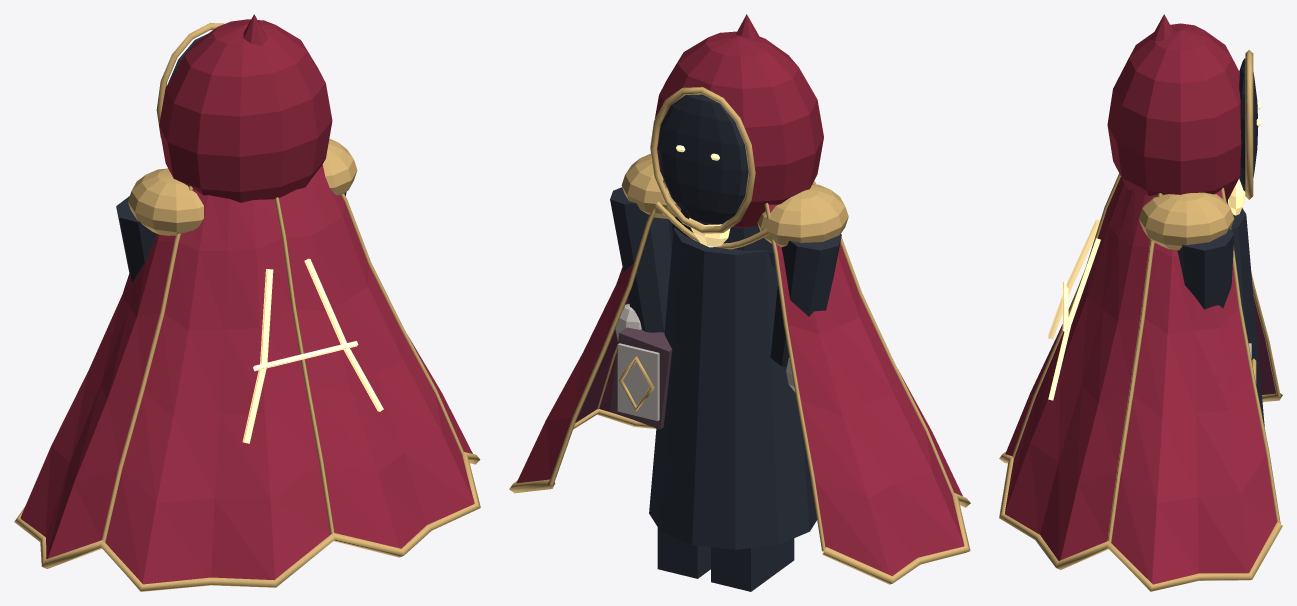
The model's file is player.glb.
The picture shows the model from 3 angles, left to right: view 1: azimuth 30°, elevation 25°; view 2: azimuth 150°, elevation 25°; view 3: azimuth 270°, elevation 25°; orthographic projection. The views are drawn at different scales.
Visible parts, largest first — view 1: Cloak, Hood, CloakHem, Shoulder_-1, CloakSeam_8, Sleeve_-1, CloakSeam_4, BackRune-1, Shoulder_1, BackRune1, CloakSeam_12, HoodTrim (+1 smaller); view 2: Dress, Cloak, Hood, FaceShadow, Sleeve_1, Sleeve_-1, Shoulder_-1, Boot_-1, HoodTrim, CloakHem, BookPages, Grimoire (+8 smaller); view 3: Cloak, Hood, Shoulder_1, CloakHem, Sleeve_1, Dress, CloakSeam_12, HoodTrim, CloakSeam_16, FaceShadow, BackRune1, CloakLining (+4 smaller).
Part boxes in pixels (x1=…): Cloak: x1=20, y1=165, x2=474, y2=584; Hood: x1=159, y1=19, x2=332, y2=202; CloakHem: x1=14, y1=452, x2=480, y2=591; Shoulder_-1: x1=128, y1=168, x2=203, y2=235; CloakSeam_8: x1=275, y1=197, x2=334, y2=534; Sleeve_-1: x1=116, y1=196, x2=157, y2=282; CloakSeam_4: x1=102, y1=186, x2=192, y2=541; BackRune-1: x1=242, y1=269, x2=273, y2=443; Shoulder_1: x1=322, y1=138, x2=357, y2=195; BackRune1: x1=304, y1=258, x2=383, y2=411; CloakSeam_12: x1=341, y1=193, x2=463, y2=454; HoodTrim: x1=156, y1=23, x2=224, y2=137; Dress: x1=649, y1=227, x2=816, y2=549; Cloak: x1=516, y1=180, x2=964, y2=575; Hood: x1=655, y1=31, x2=823, y2=227; FaceShadow: x1=658, y1=94, x2=748, y2=224; Sleeve_1: x1=610, y1=187, x2=672, y2=332; Sleeve_-1: x1=770, y1=233, x2=841, y2=367; Shoulder_-1: x1=757, y1=184, x2=848, y2=246; Boot_-1: x1=711, y1=538, x2=794, y2=591; HoodTrim: x1=650, y1=87, x2=755, y2=233; CloakHem: x1=509, y1=409, x2=970, y2=584; BookPages: x1=617, y1=343, x2=659, y2=420; Grimoire: x1=610, y1=327, x2=672, y2=429; Cloak: x1=1005, y1=177, x2=1276, y2=584; Hood: x1=1107, y1=23, x2=1241, y2=201; Shoulder_1: x1=1139, y1=192, x2=1234, y2=250; CloakHem: x1=999, y1=393, x2=1282, y2=591; Sleeve_1: x1=1177, y1=228, x2=1234, y2=309; Dress: x1=1231, y1=208, x2=1264, y2=426; CloakSeam_12: x1=1107, y1=193, x2=1162, y2=542; HoodTrim: x1=1245, y1=50, x2=1253, y2=199; CloakSeam_16: x1=1221, y1=187, x2=1280, y2=523; FaceShadow: x1=1239, y1=58, x2=1258, y2=191; BackRune1: x1=1048, y1=238, x2=1100, y2=400; CloakLining: x1=1253, y1=296, x2=1276, y2=395.
Size of the model in its own units: 1.63 by 1.92 by 0.9511.
